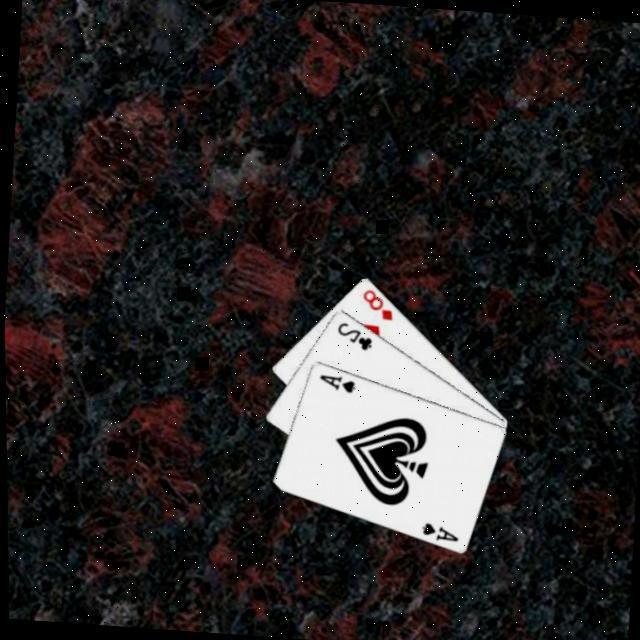2C: (331, 317, 373, 352)
8D: (356, 283, 394, 321)
AS: (414, 517, 459, 542), (313, 369, 356, 394)
